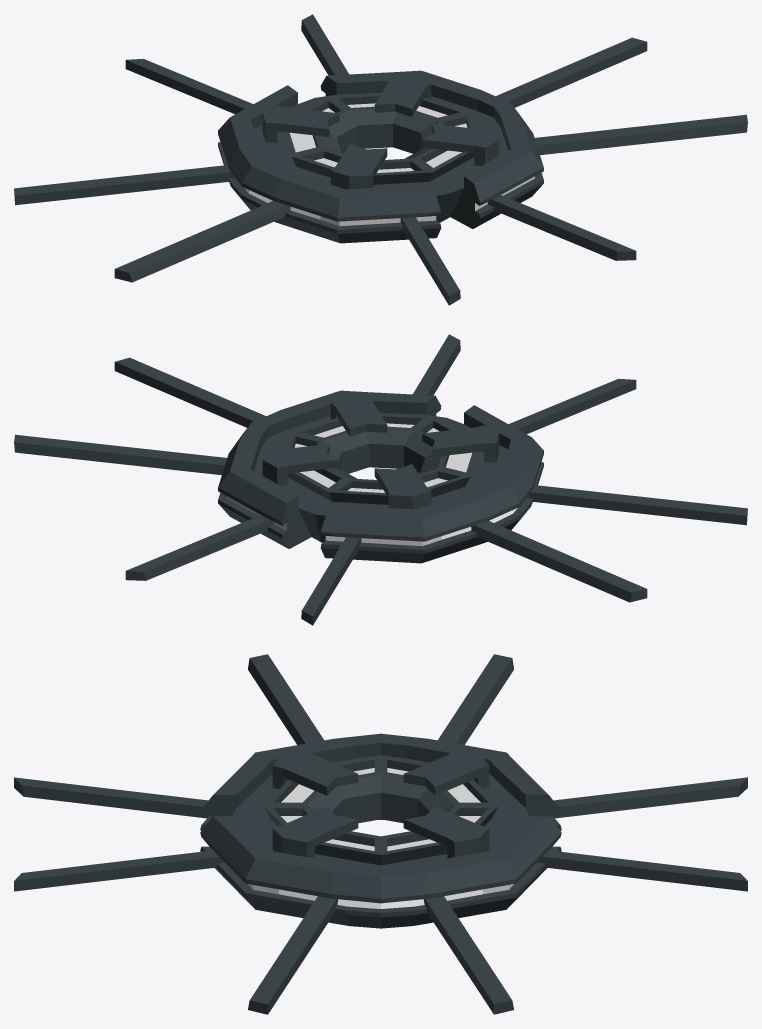
File: Hangar_2_solo.fbx
3 renders of one model, top to bottom at view 1: azimuth 30°, elevation 25°; view 2: azimuth 150°, elevation 25°; view 3: azimuth 270°, elevation 25°, orthographic. The views are drawn at different scales.
Visible parts, largest first — view 1: Hangar 2 - Con paleta; view 2: Hangar 2 - Con paleta; view 3: Hangar 2 - Con paleta.
Boxes of the visible parts, bbox=[...] form: Hangar 2 - Con paleta: bbox=[14, 14, 747, 305]; Hangar 2 - Con paleta: bbox=[14, 334, 747, 625]; Hangar 2 - Con paleta: bbox=[14, 654, 747, 1014].
Size of the model in its own units: 3268 by 262 by 2895.
2 materials, 1 textured.
